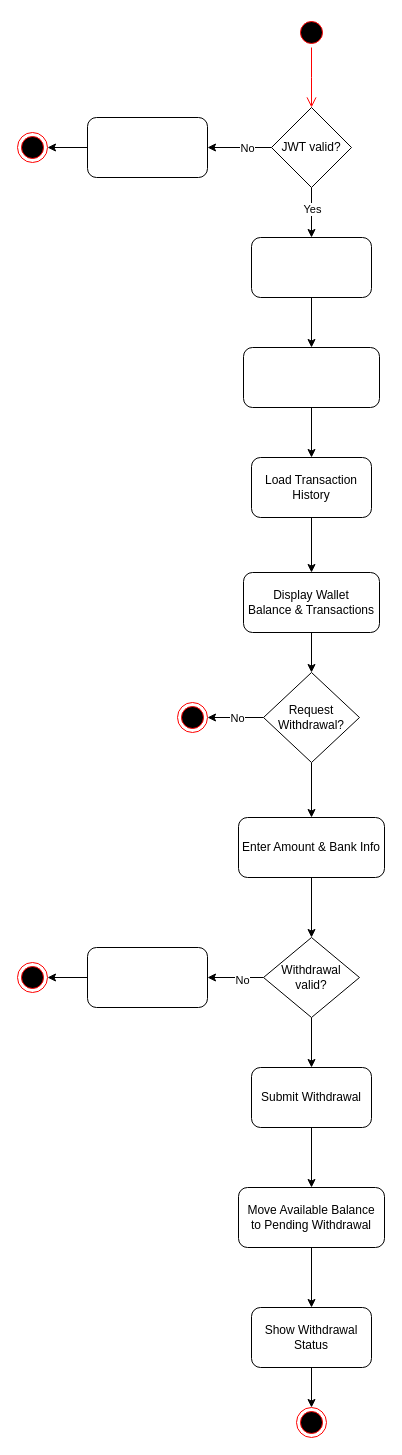
The diagram is 402 pixels wide and 1455 high, and some of its shapes have lost their labels. The centre of each missing label's shape, as x and y in pixels:
"401 Unauthorized" goes at point 147,147.
"Load Available Balance & Pending Withdrawal" goes at point 311,377.
"Open My Wallet" goes at point 311,267.
"Show Error" goes at point 147,977.
